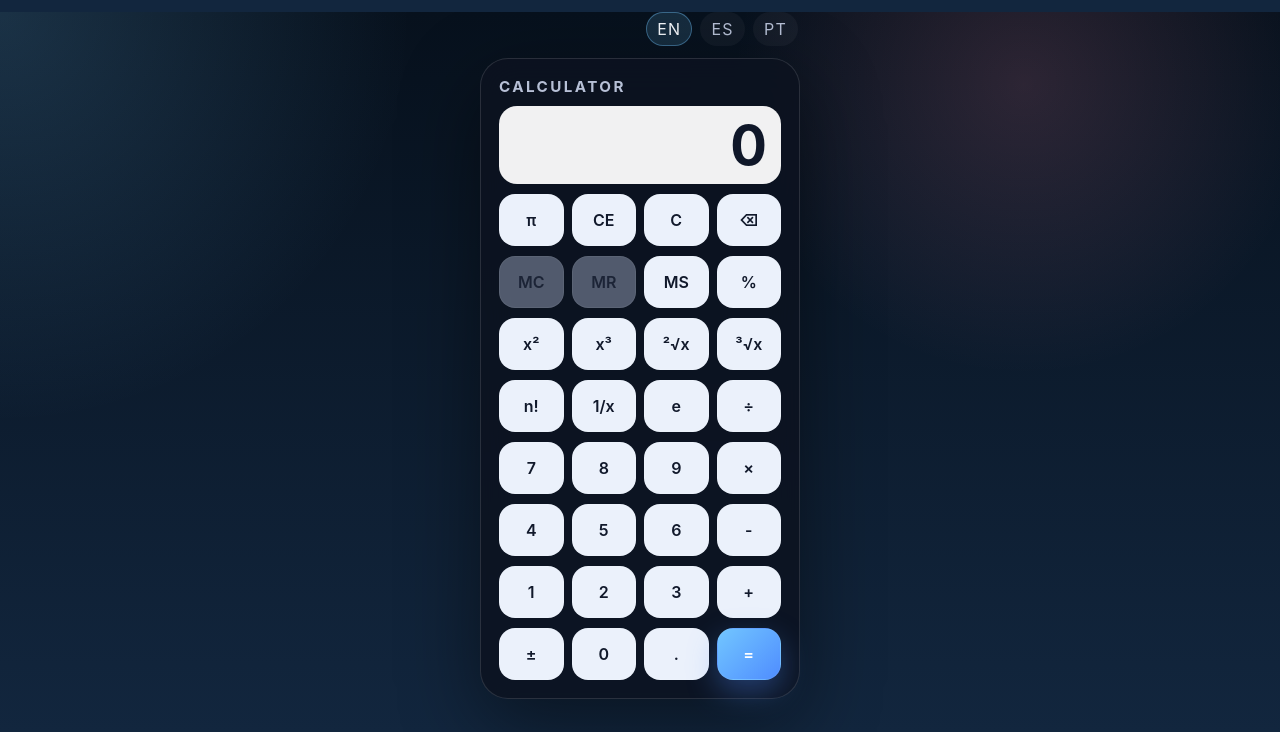
Scenario: Calculator › starts a fresh decimal after equals
The width and height of the screenshot is (1280, 732).
Click the button "2".
click(604, 592)  # box x1=572 y1=566 x2=636 y2=618
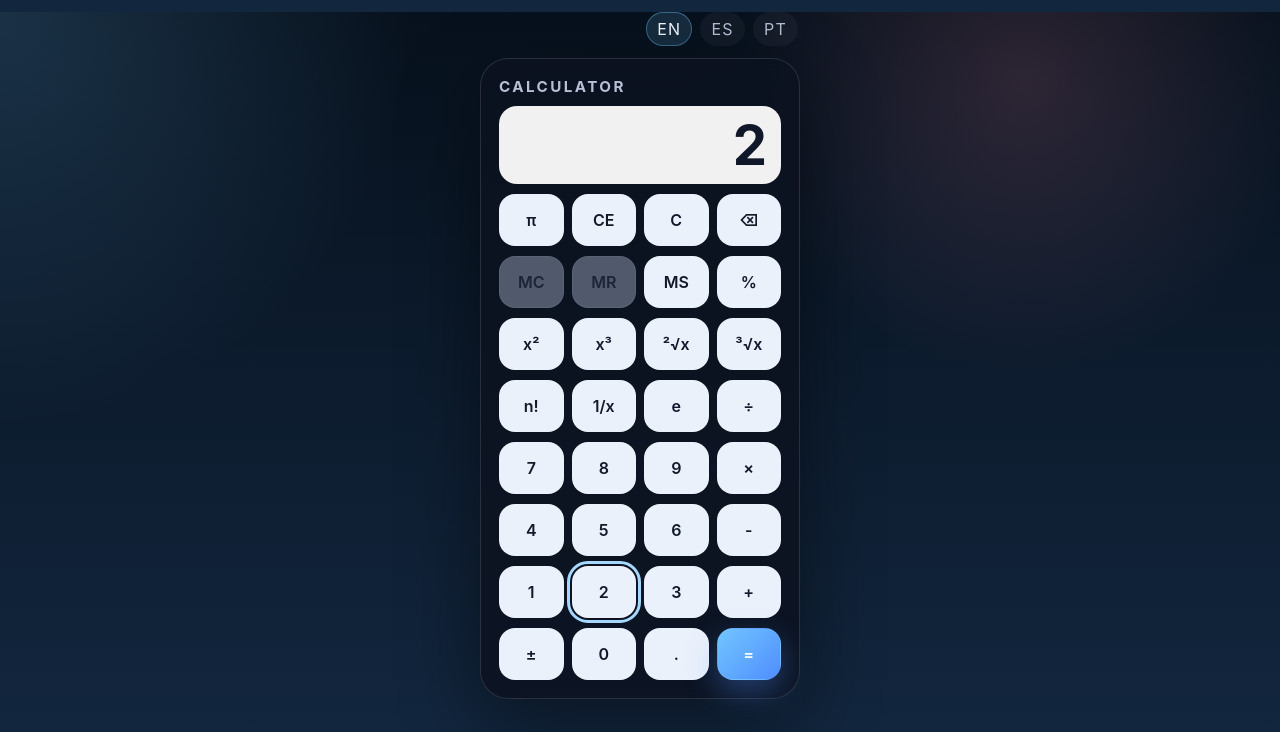
Click the button "+".
click(749, 592)  # box x1=716 y1=566 x2=781 y2=618
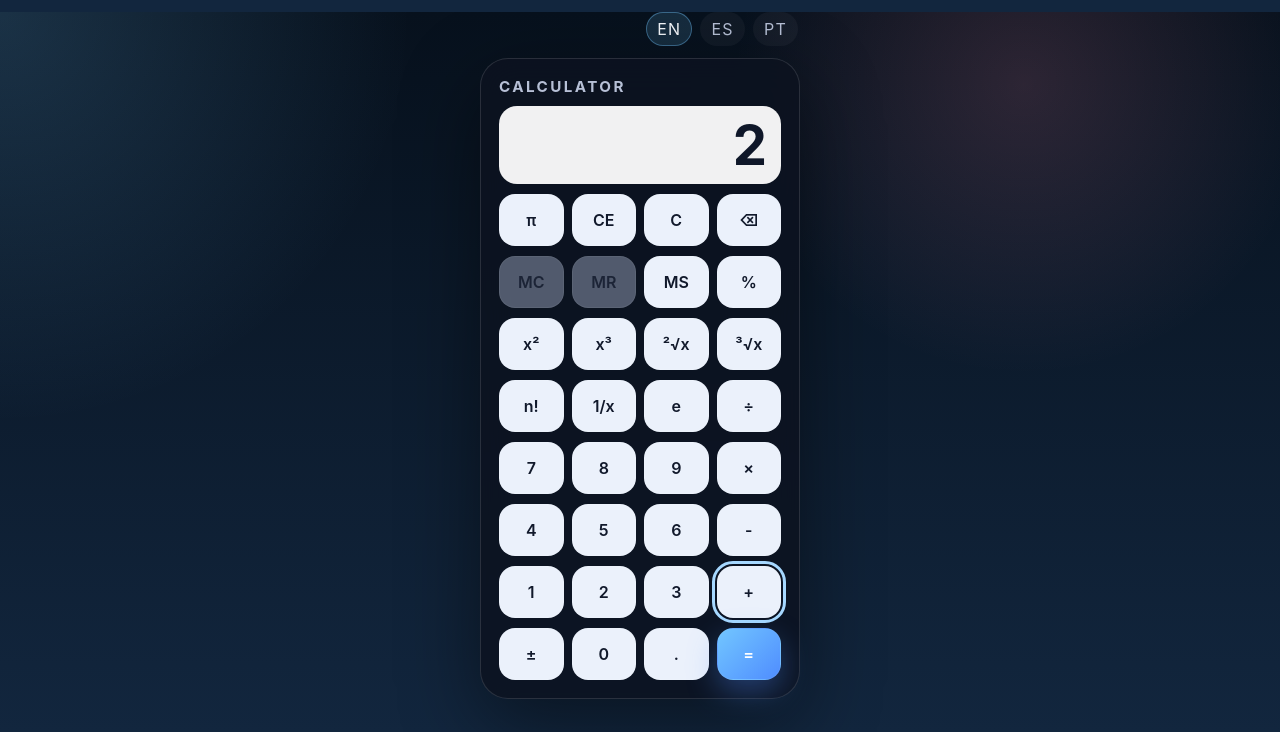
Click the button "3".
click(676, 592)  # box x1=644 y1=566 x2=708 y2=618
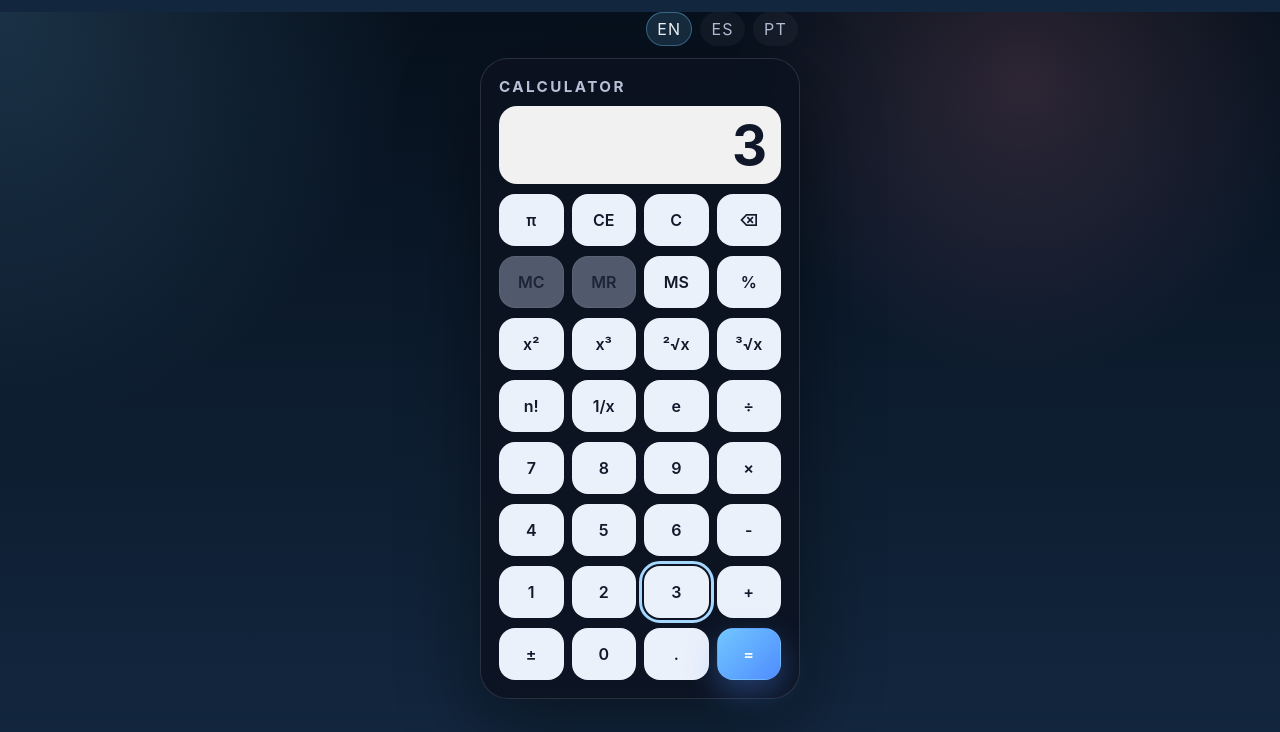
Click the button "=".
click(749, 654)  # box x1=716 y1=628 x2=781 y2=680
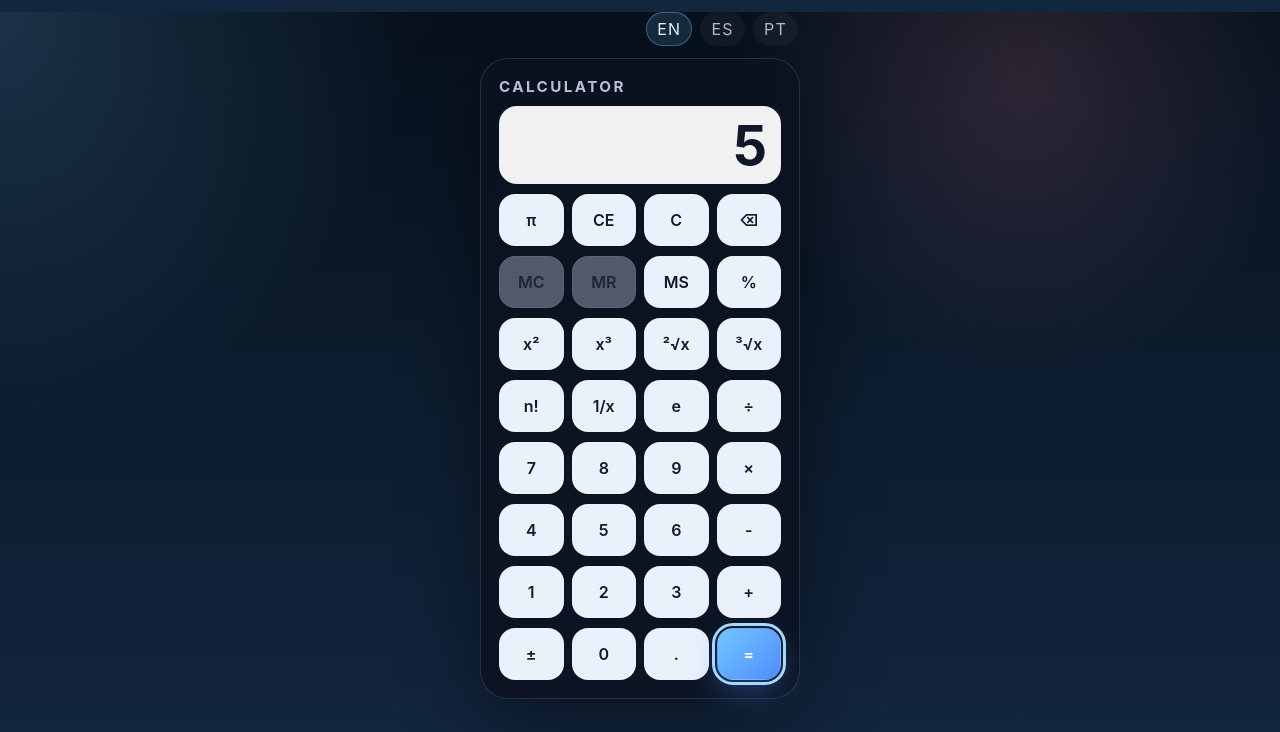
Click the button ".".
click(676, 654)  # box x1=644 y1=628 x2=708 y2=680
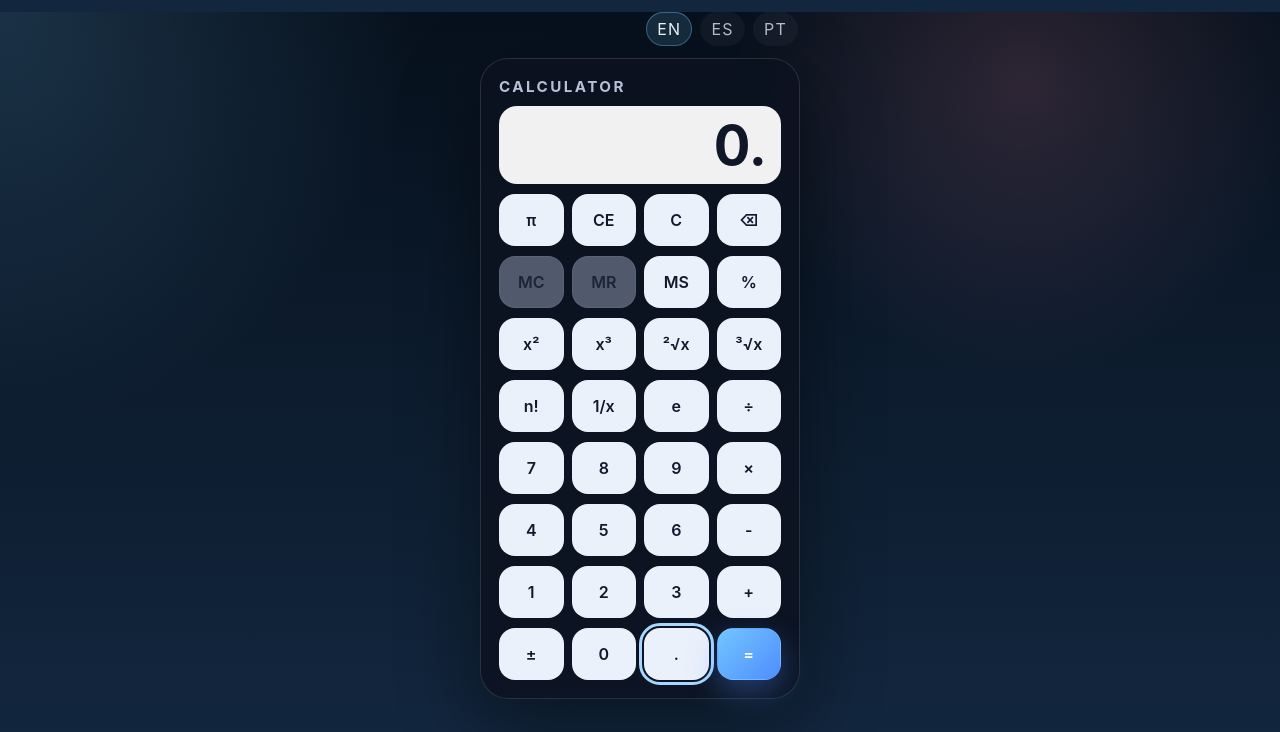
Click the button "7".
click(531, 468)  # box x1=499 y1=442 x2=564 y2=494
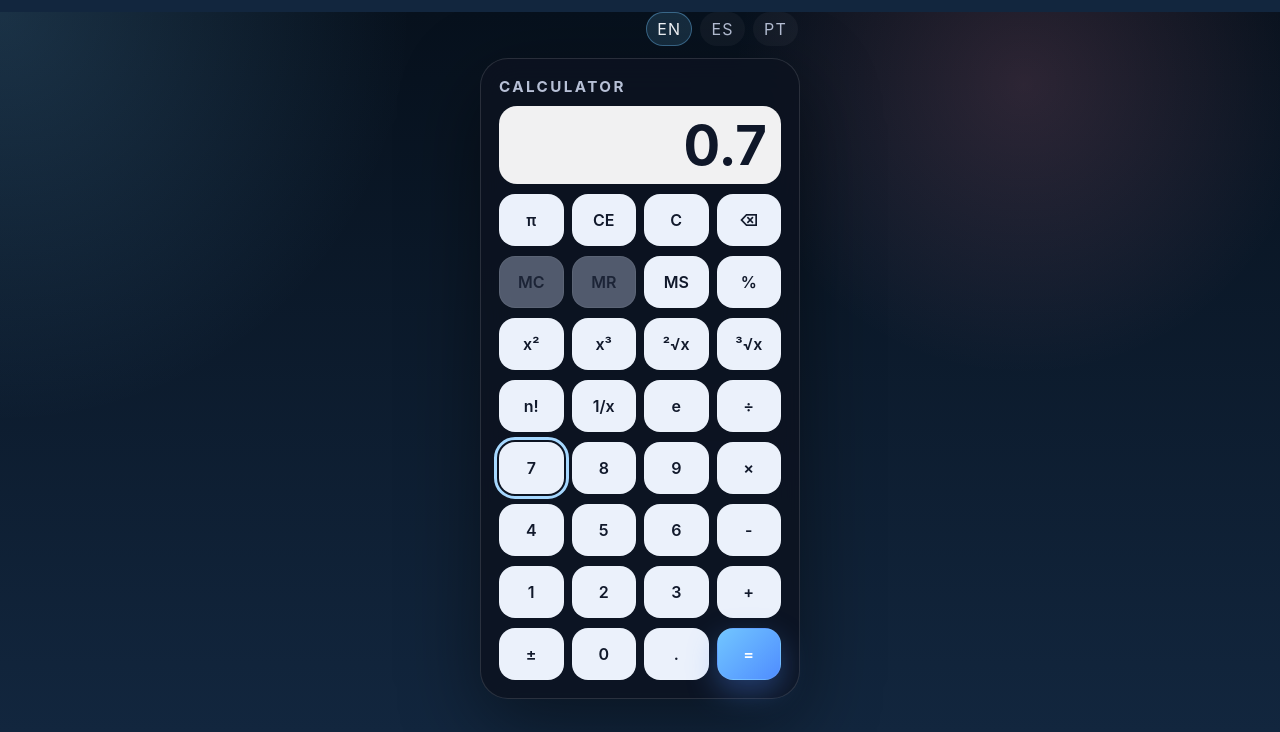
Expected: the message reads "0.7", x1=684 y1=112 x2=767 y2=178
